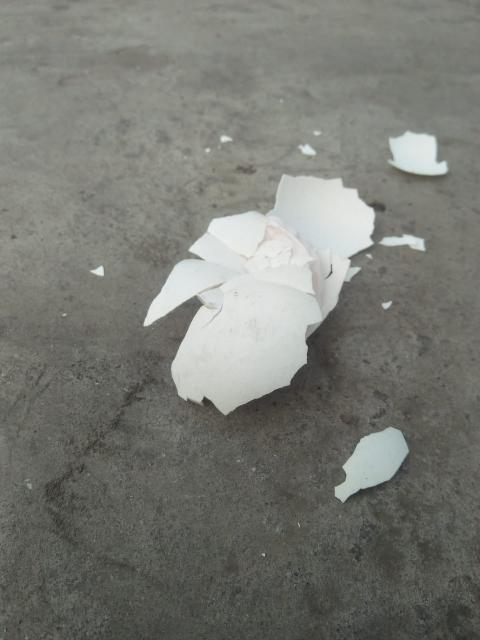Roto: (143, 209, 352, 416), (266, 172, 376, 261), (333, 425, 409, 503), (386, 129, 449, 176)
